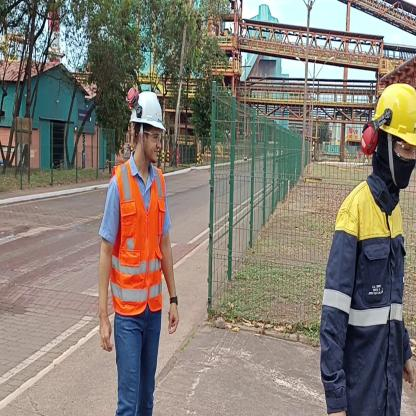Balaclava: (374, 132, 416, 200)
C_eletrica: (313, 184, 416, 416)
Capacete: (365, 83, 416, 144), (126, 80, 170, 130)
colete: (111, 162, 166, 317)
